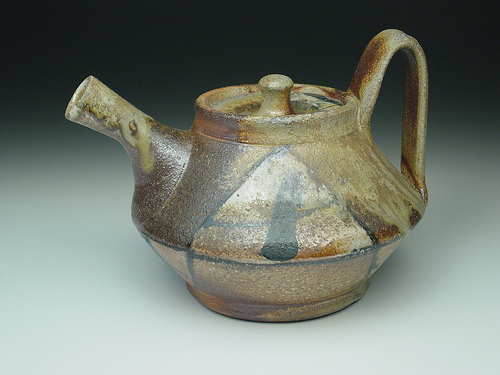teapot: (51, 3, 458, 339)
